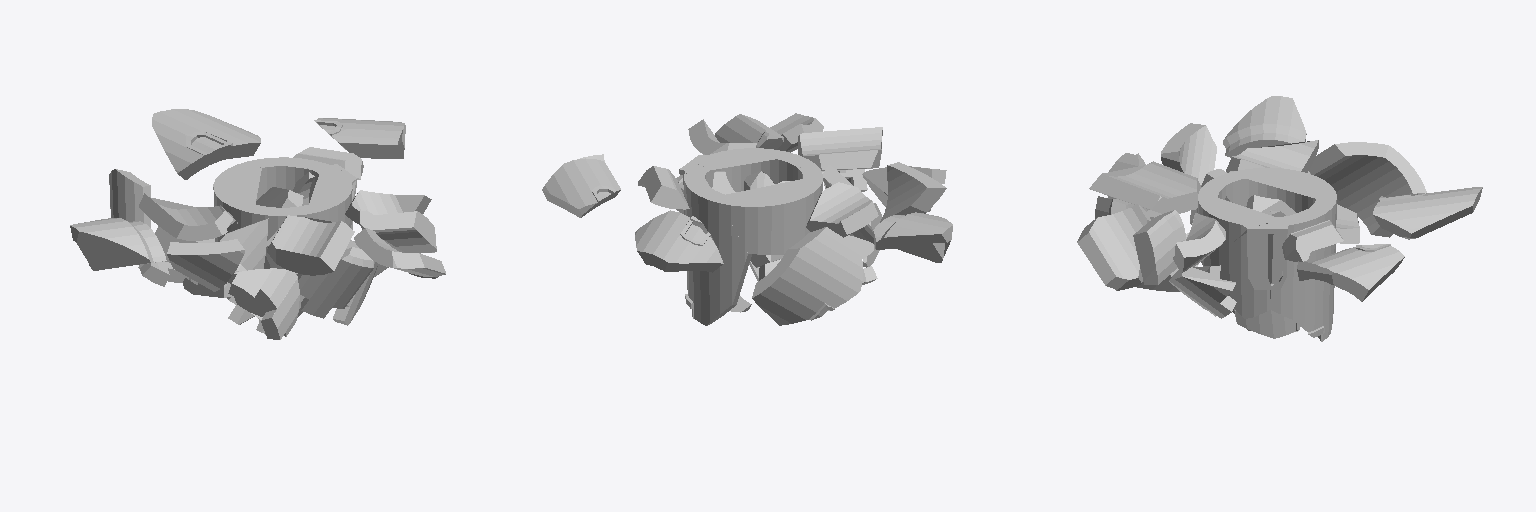
The model's file is destruction_tower_000058.obj.
The picture shows the model from 3 angles: view 1: azimuth 30°, elevation 25°; view 2: azimuth 150°, elevation 25°; view 3: azimuth 270°, elevation 25°; orthographic projection.
Visible parts, largest first — view 1: tower.001_cell.025_Mesh.025, tower.001_cell.024_Mesh.024, tower.001_cell.005_Mesh.005, tower.001_cell.006_Mesh.006, tower.001_cell.011_Mesh.011, tower.001_cell.002_Mesh.002, tower.001_cell.012_Mesh.012, tower.001_cell.009_Mesh.009, tower.001_cell_Mesh, tower.001_cell.028_Mesh.028, tower.001_cell.021_Mesh.021, tower.001_cell.015_Mesh.015 (+9 smaller); view 2: tower.001_cell.003_Mesh.003, tower.001_cell.017_Mesh.017, tower.001_cell.015_Mesh.015, tower.001_cell.025_Mesh.025, tower.001_cell.012_Mesh.012, tower.001_cell.024_Mesh.024, tower.001_cell.005_Mesh.005, tower.001_cell.028_Mesh.028, tower.001_cell.009_Mesh.009, tower.001_cell.002_Mesh.002, tower.001_cell_Mesh, tower.001_cell.016_Mesh.016 (+5 smaller); view 3: tower.001_cell.003_Mesh.003, tower.001_cell.021_Mesh.021, tower.001_cell.020_Mesh.020, tower.001_cell.024_Mesh.024, tower.001_cell.025_Mesh.025, tower.001_cell.012_Mesh.012, tower.001_cell.017_Mesh.017, tower.001_cell.005_Mesh.005, tower.001_cell.015_Mesh.015, tower.001_cell_Mesh, tower.001_cell.028_Mesh.028, tower.001_cell.002_Mesh.002 (+10 smaller).
Part boxes in pixels (bbox=[...]): tower.001_cell.025_Mesh.025: bbox=[152, 109, 260, 179]; tower.001_cell.024_Mesh.024: bbox=[267, 215, 354, 275]; tower.001_cell.005_Mesh.005: bbox=[70, 218, 166, 270]; tower.001_cell.006_Mesh.006: bbox=[228, 268, 299, 339]; tower.001_cell.011_Mesh.011: bbox=[297, 247, 373, 318]; tower.001_cell.002_Mesh.002: bbox=[167, 239, 244, 291]; tower.001_cell.012_Mesh.012: bbox=[314, 118, 405, 158]; tower.001_cell.009_Mesh.009: bbox=[139, 193, 235, 240]; tower.001_cell_Mesh: bbox=[358, 210, 436, 253]; tower.001_cell.028_Mesh.028: bbox=[280, 174, 356, 226]; tower.001_cell.021_Mesh.021: bbox=[354, 228, 445, 278]; tower.001_cell.015_Mesh.015: bbox=[213, 162, 261, 241]; tower.001_cell.003_Mesh.003: bbox=[752, 227, 862, 325]; tower.001_cell.017_Mesh.017: bbox=[684, 173, 751, 325]; tower.001_cell.015_Mesh.015: bbox=[721, 179, 821, 254]; tower.001_cell.025_Mesh.025: bbox=[635, 210, 723, 272]; tower.001_cell.012_Mesh.012: bbox=[542, 154, 620, 217]; tower.001_cell.024_Mesh.024: bbox=[798, 127, 882, 172]; tower.001_cell.005_Mesh.005: bbox=[873, 212, 952, 262]; tower.001_cell.028_Mesh.028: bbox=[699, 148, 811, 191]; tower.001_cell.009_Mesh.009: bbox=[806, 182, 878, 237]; tower.001_cell.002_Mesh.002: bbox=[880, 162, 946, 222]; tower.001_cell_Mesh: bbox=[715, 114, 783, 149]; tower.001_cell.016_Mesh.016: bbox=[638, 166, 689, 209]; tower.001_cell.003_Mesh.003: bbox=[1309, 142, 1426, 237]; tower.001_cell.021_Mesh.021: bbox=[1077, 204, 1150, 290]; tower.001_cell.020_Mesh.020: bbox=[1209, 224, 1273, 318]; tower.001_cell.024_Mesh.024: bbox=[1089, 161, 1201, 213]; tower.001_cell.025_Mesh.025: bbox=[1373, 187, 1482, 239]; tower.001_cell.012_Mesh.012: bbox=[1297, 244, 1404, 301]; tower.001_cell.017_Mesh.017: bbox=[1293, 196, 1336, 341]; tower.001_cell.005_Mesh.005: bbox=[1223, 96, 1306, 157]; tower.001_cell.015_Mesh.015: bbox=[1245, 168, 1336, 212]; tower.001_cell_Mesh: bbox=[1133, 210, 1185, 284]; tower.001_cell.028_Mesh.028: bbox=[1198, 183, 1273, 265]; tower.001_cell.002_Mesh.002: bbox=[1161, 123, 1216, 184].
Size of the model in its own units: 129 by 49.72 by 124.